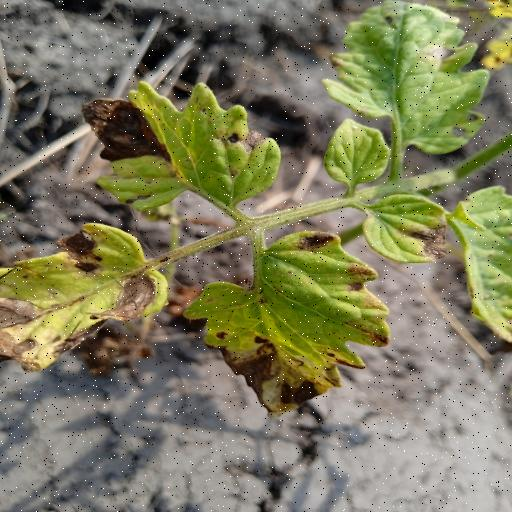Tomato_Brown_Spots: (181, 225, 397, 422), (0, 213, 184, 376), (80, 83, 284, 219)
